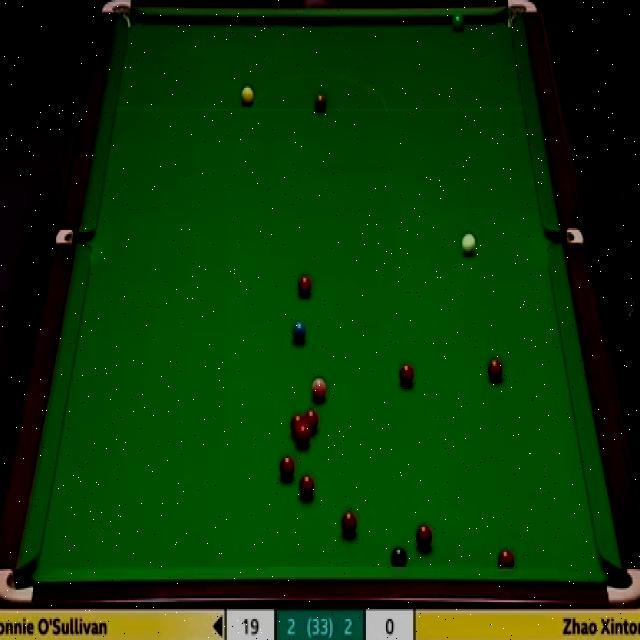black-ball: (391, 544, 408, 568)
blue-ball: (291, 320, 308, 342)
brown-ball: (314, 89, 326, 111)
green-ball: (452, 9, 466, 30)
pink-ball: (310, 376, 326, 402)
red-ball: (415, 524, 434, 552), (298, 470, 316, 499), (341, 509, 358, 539), (298, 274, 316, 302), (398, 360, 415, 388), (276, 457, 296, 480), (290, 414, 305, 440), (487, 358, 502, 383), (304, 410, 318, 434), (296, 427, 312, 448), (497, 548, 515, 566)
white-ball: (459, 231, 476, 255)
yellow-ball: (240, 88, 253, 105)
